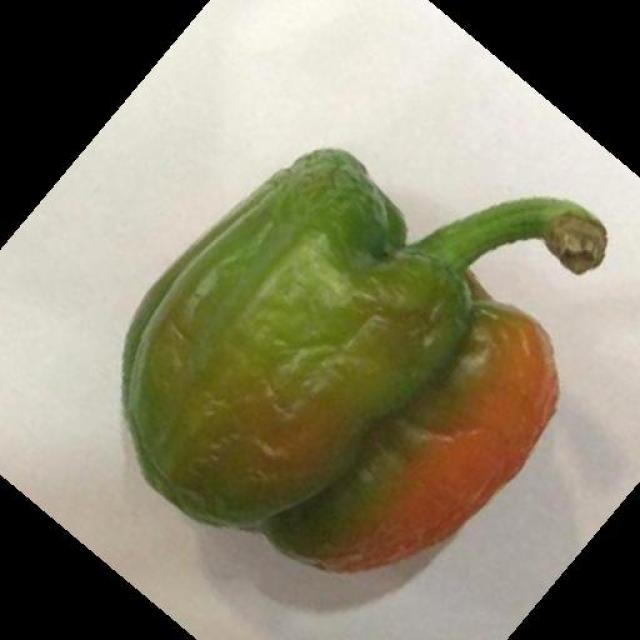Stale_Capsicum: (128, 97, 566, 553)
